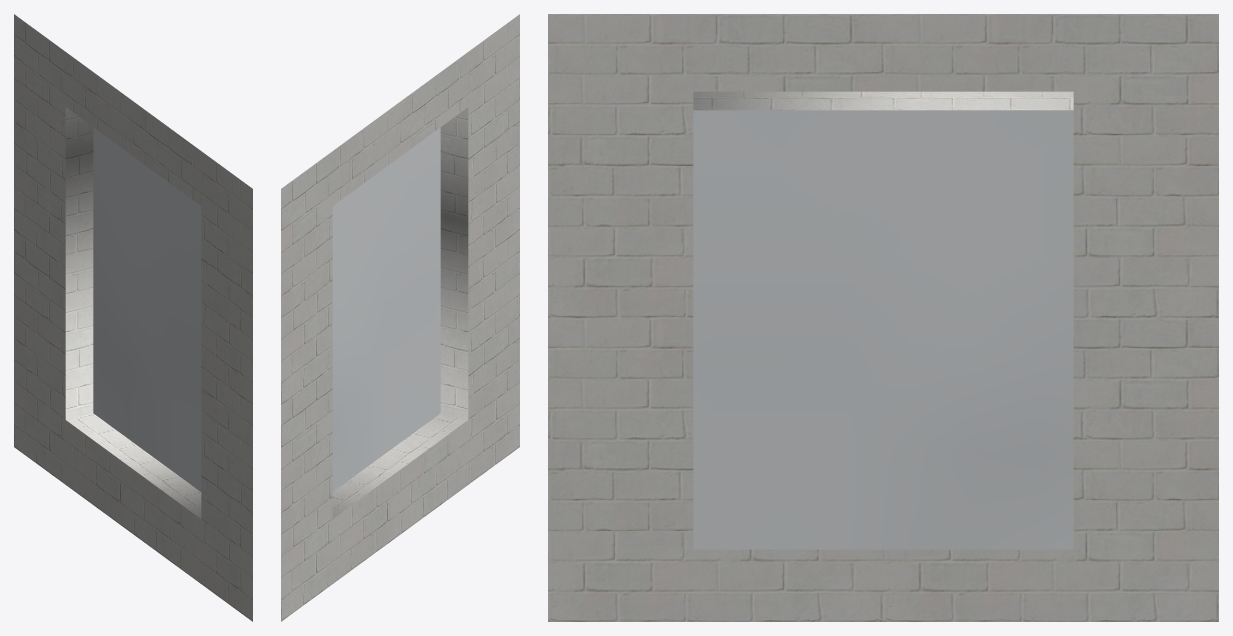
The model's file is wall w 1.fbx.
3 renders of one model, left to right at view 1: azimuth 30°, elevation 25°; view 2: azimuth 150°, elevation 25°; view 3: azimuth 270°, elevation 25°, orthographic. The views are drawn at different scales.
Visible parts, largest first — view 1: wall_w_1; view 2: wall_w_1; view 3: wall_w_1.
Part boxes in pixels (bbox=[...]): wall_w_1: bbox=[14, 14, 252, 621]; wall_w_1: bbox=[281, 14, 519, 621]; wall_w_1: bbox=[548, 14, 1218, 621].
Bounding box in the file's own units: 40 × 600 × 600.
